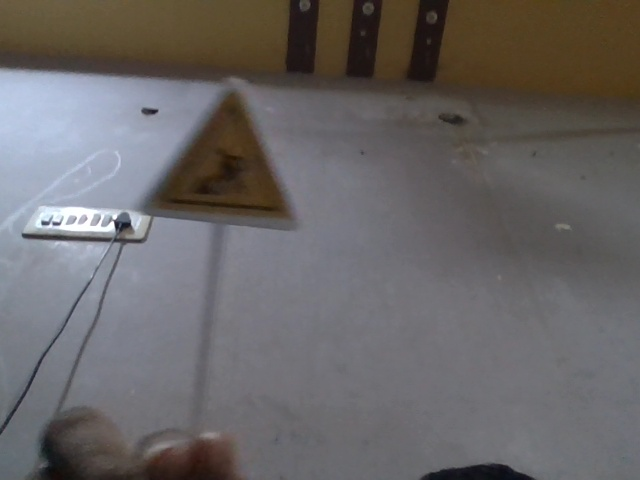workinprogress: (142, 80, 301, 244)
